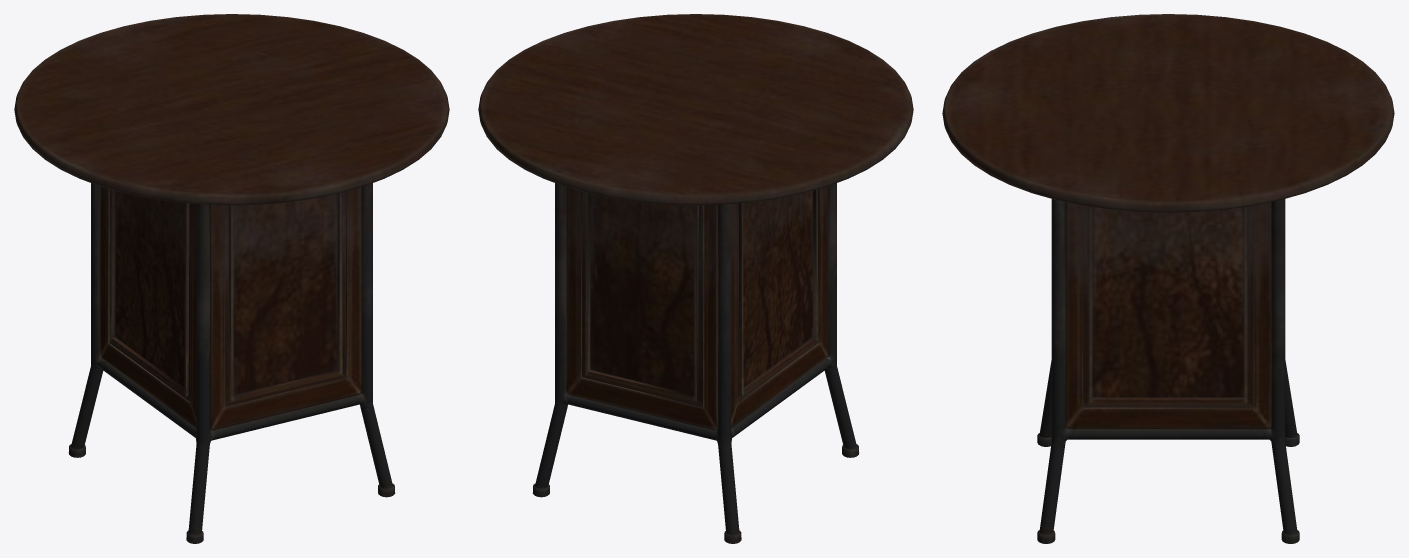
The model's file is round_wooden_table_02.glb.
3 views of the same model, side by side, from view 1: azimuth 30°, elevation 25°; view 2: azimuth 150°, elevation 25°; view 3: azimuth 270°, elevation 25° (orthographic). The views are drawn at different scales.
Parts seen in each view (by area): view 1: round_wooden_table_02; view 2: round_wooden_table_02; view 3: round_wooden_table_02.
Boxes of the visible parts, bbox=[...] form: round_wooden_table_02: bbox=[14, 14, 449, 543]; round_wooden_table_02: bbox=[478, 14, 913, 543]; round_wooden_table_02: bbox=[942, 14, 1394, 543].
Bounding box in the file's own units: 0.7962 × 0.746 × 0.7962.
Materials: 1 (1 with a texture image).
